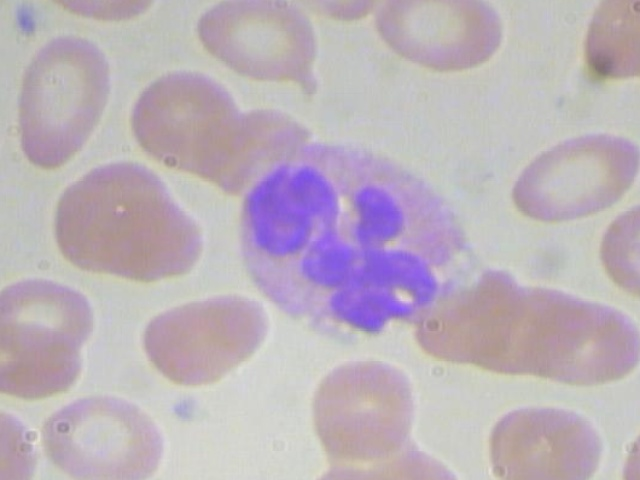Platelets: (2, 1, 50, 42)
RBC: (46, 159, 219, 290), (0, 29, 119, 170), (293, 348, 427, 468), (129, 283, 275, 393), (117, 65, 249, 178), (506, 117, 640, 227), (192, 0, 337, 98), (31, 385, 176, 480), (480, 396, 614, 480), (368, 0, 509, 73), (0, 267, 107, 359), (590, 194, 640, 305)
WBC: (223, 133, 482, 350)
